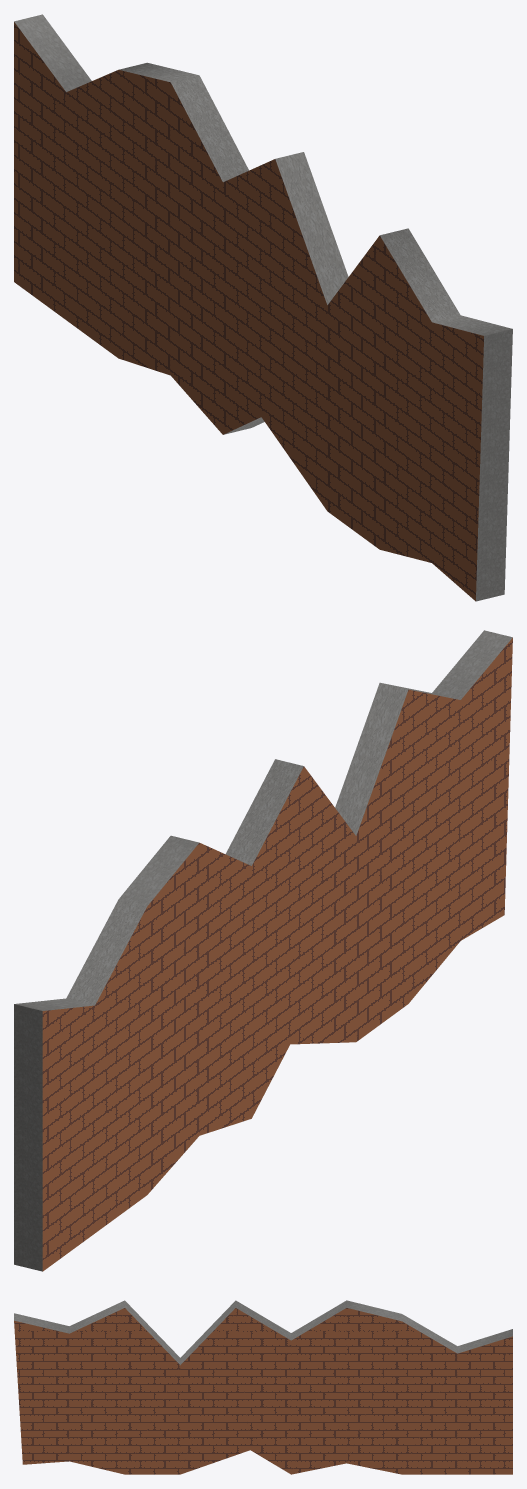
File: Pedaço Parede.fbx
3 views of the same model, one above another, from view 1: azimuth 30°, elevation 25°; view 2: azimuth 150°, elevation 25°; view 3: azimuth 270°, elevation 25° (orthographic). The views are drawn at different scales.
Visible parts, largest first — view 1: Box001; view 2: Box001; view 3: Box001.
Boxes of the visible parts, x1,y1,x2,y2 form: Box001: [14, 14, 512, 601]; Box001: [14, 630, 512, 1271]; Box001: [14, 1300, 512, 1474].
Size of the model in its own units: 10 by 104 by 283.
Materials: 2 (2 with a texture image).
